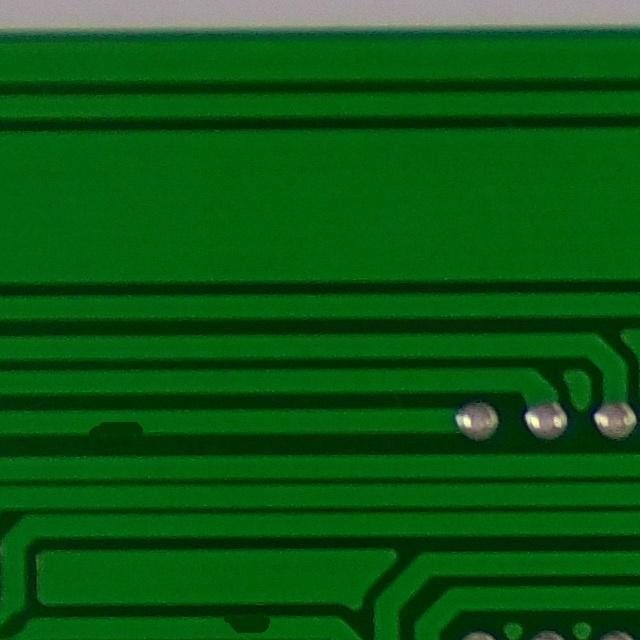mouse_bite: (72, 398, 157, 447), (210, 604, 286, 640)
